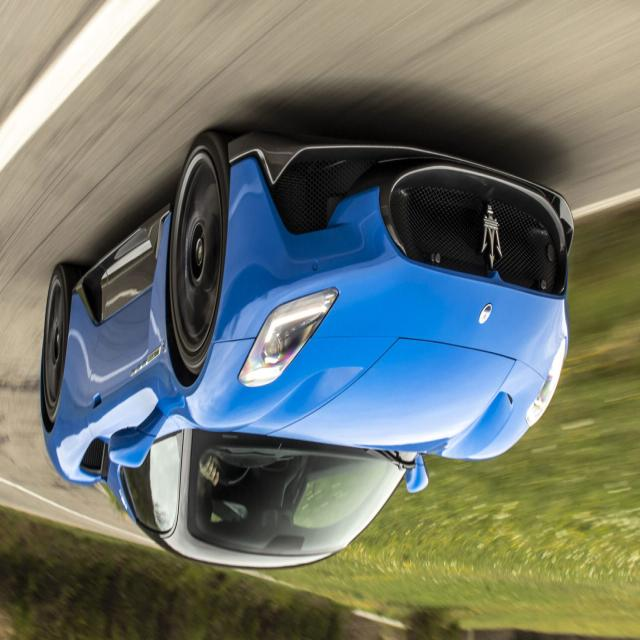car: (37, 84, 584, 588)
